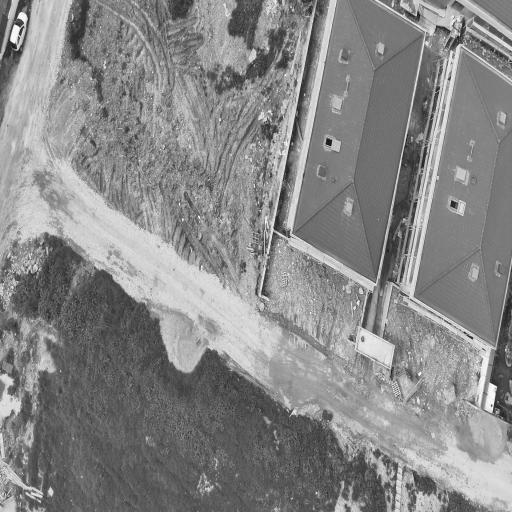car: (9, 12, 27, 51)
